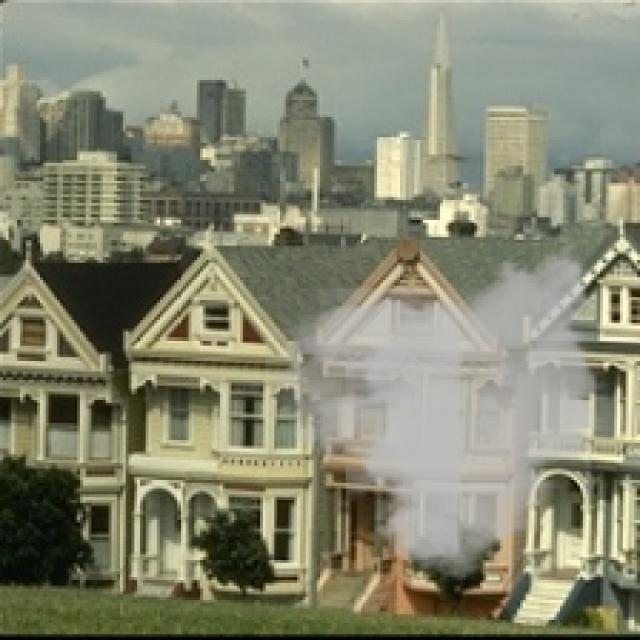smoke: (266, 234, 611, 592)
